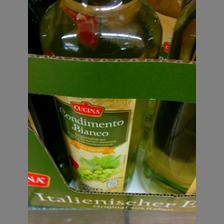Essig: (42, 0, 162, 200)
